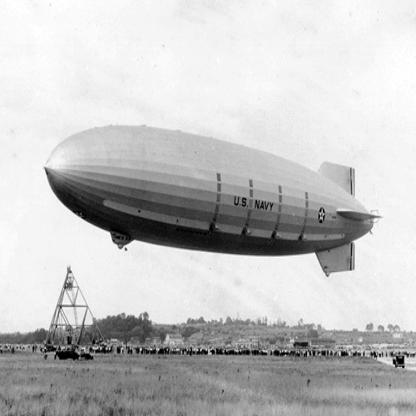Airship: (40, 115, 386, 276)
